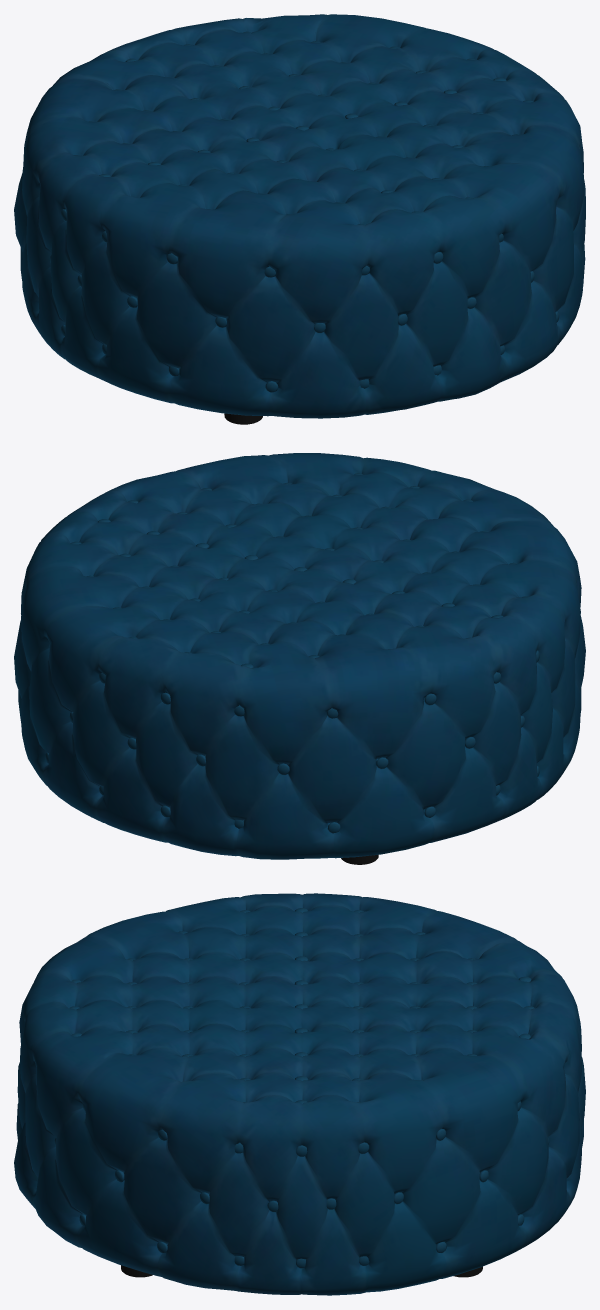
File: B07B4FZXL1.glb
3 views of the same model, one above another, from view 1: azimuth 30°, elevation 25°; view 2: azimuth 150°, elevation 25°; view 3: azimuth 270°, elevation 25° (orthographic).
Parts seen in each view (by area): view 1: RootNode; view 2: RootNode; view 3: RootNode.
Boxes of the visible parts, x1,y1,x2,y2 form: RootNode: (14,14,585,424); RootNode: (14,453,585,864); RootNode: (14,893,585,1295).
Size of the model in its own units: 0.9979 by 0.3984 by 0.9978.
Materials: 1 (1 with a texture image).
